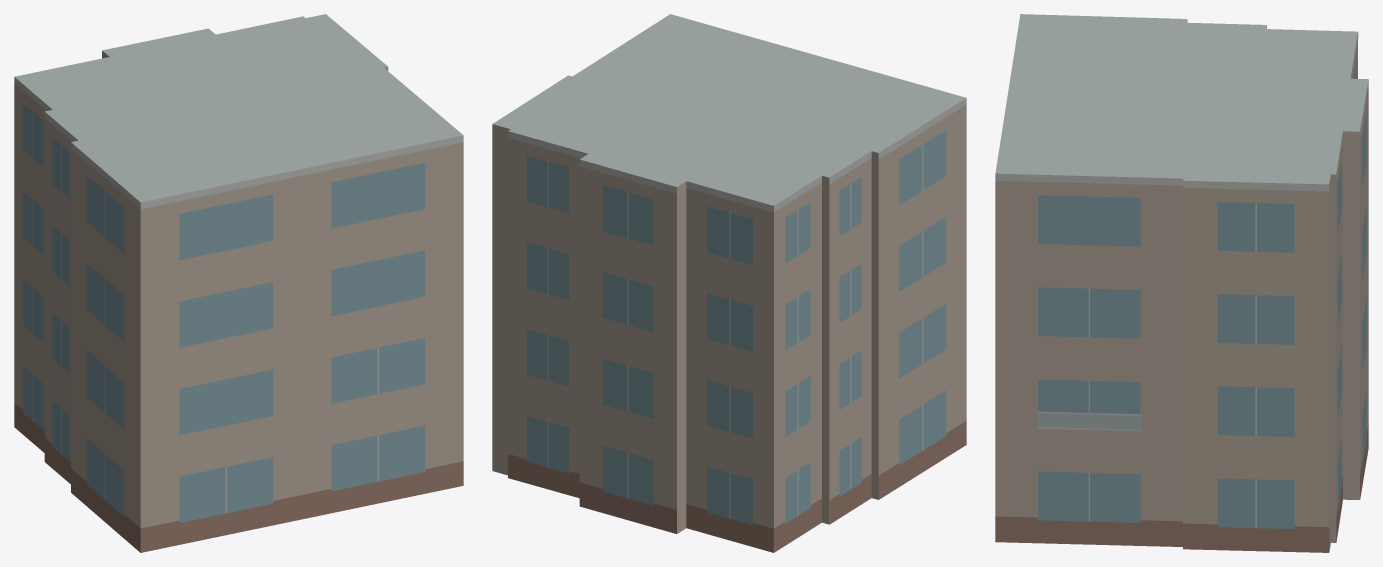
The model's file is survey-upis-32671883.glb.
3 views of the same model, side by side, from view 1: azimuth 30°, elevation 25°; view 2: azimuth 150°, elevation 25°; view 3: azimuth 270°, elevation 25° (orthographic). The views are drawn at different scales.
Visible parts, largest first — view 1: survey-upis-32671883.tmp; view 2: survey-upis-32671883.tmp; view 3: survey-upis-32671883.tmp.
Boxes of the visible parts, x1,y1,x2,y2 form: survey-upis-32671883.tmp: [14, 14, 463, 552]; survey-upis-32671883.tmp: [492, 14, 966, 552]; survey-upis-32671883.tmp: [995, 14, 1368, 552].
Bounding box in the file's own units: 12.59 × 12.68 × 11.65.
